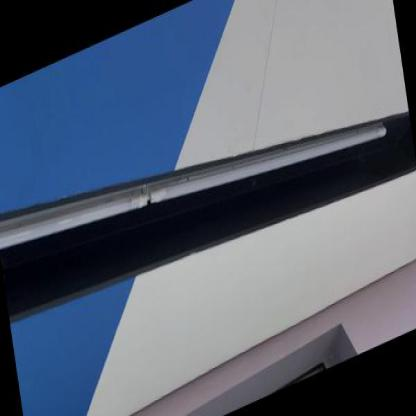light_off: (0, 9, 398, 329)
